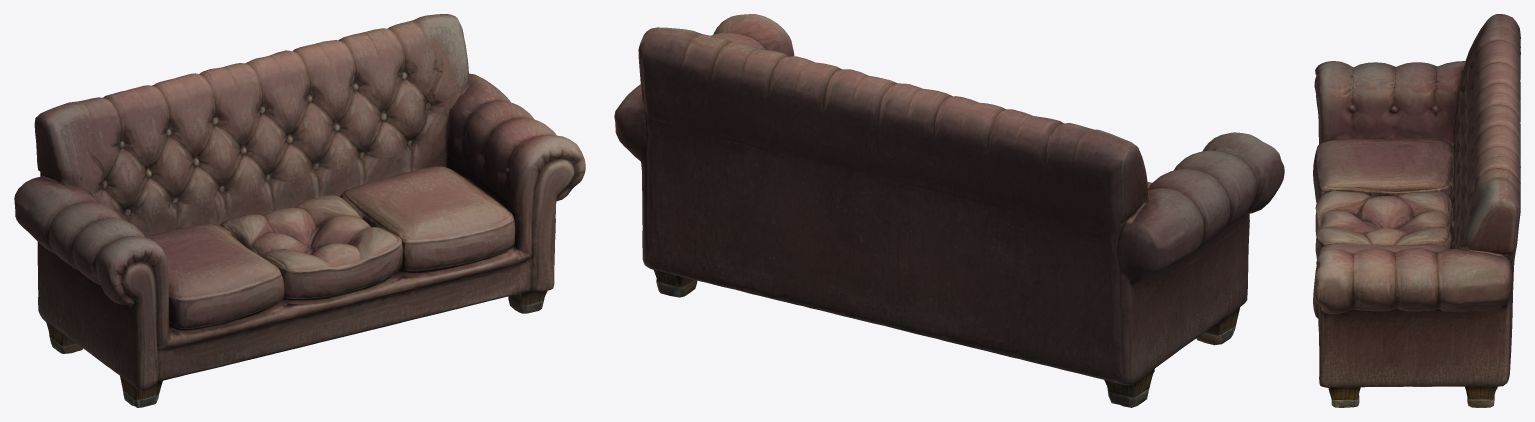
File: Furn_Sofa.fbx
3 views of the same model, side by side, from view 1: azimuth 30°, elevation 25°; view 2: azimuth 150°, elevation 25°; view 3: azimuth 270°, elevation 25° (orthographic). The views are drawn at different scales.
Parts seen in each view (by area): view 1: texture_mapping; view 2: texture_mapping; view 3: texture_mapping.
Part boxes in pixels (<box>): texture_mapping: <box>14,14,585,407</box>; texture_mapping: <box>614,14,1284,407</box>; texture_mapping: <box>1313,14,1520,407</box>.
Size of the model in its own units: 1 by 0.4089 by 0.4668.
1 material, 1 textured.
